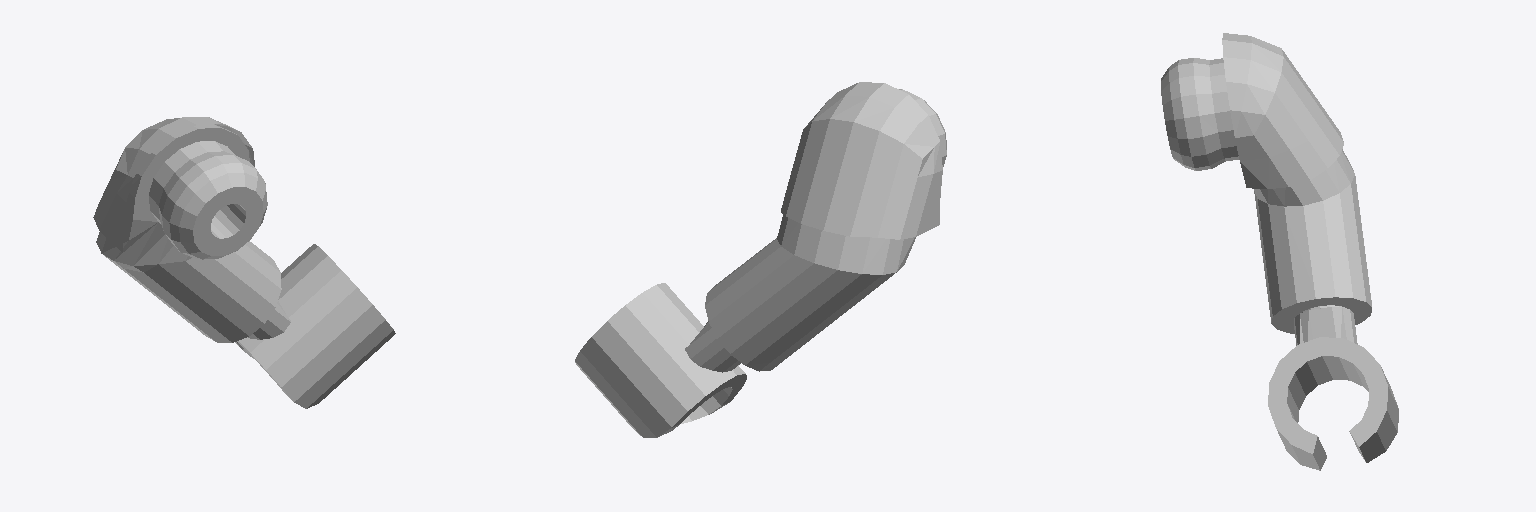
The model's file is lHand.obj.
The picture shows the model from 3 angles: view 1: azimuth 30°, elevation 25°; view 2: azimuth 150°, elevation 25°; view 3: azimuth 270°, elevation 25°; orthographic projection.
Parts seen in each view (by area): view 1: pasted__pasted__lhand; view 2: pasted__pasted__lhand; view 3: pasted__pasted__lhand.
Part boxes in pixels (x1,y1,x2,y2): pasted__pasted__lhand: (93, 117, 395, 408); pasted__pasted__lhand: (575, 82, 946, 437); pasted__pasted__lhand: (1161, 33, 1398, 470).
Size of the model in its own units: 1.37 by 1.49 by 0.9297.